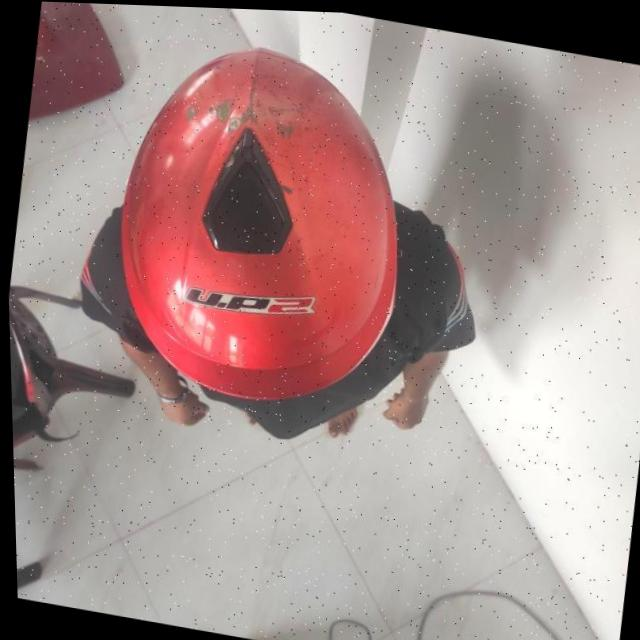helmet: (97, 23, 427, 424)
